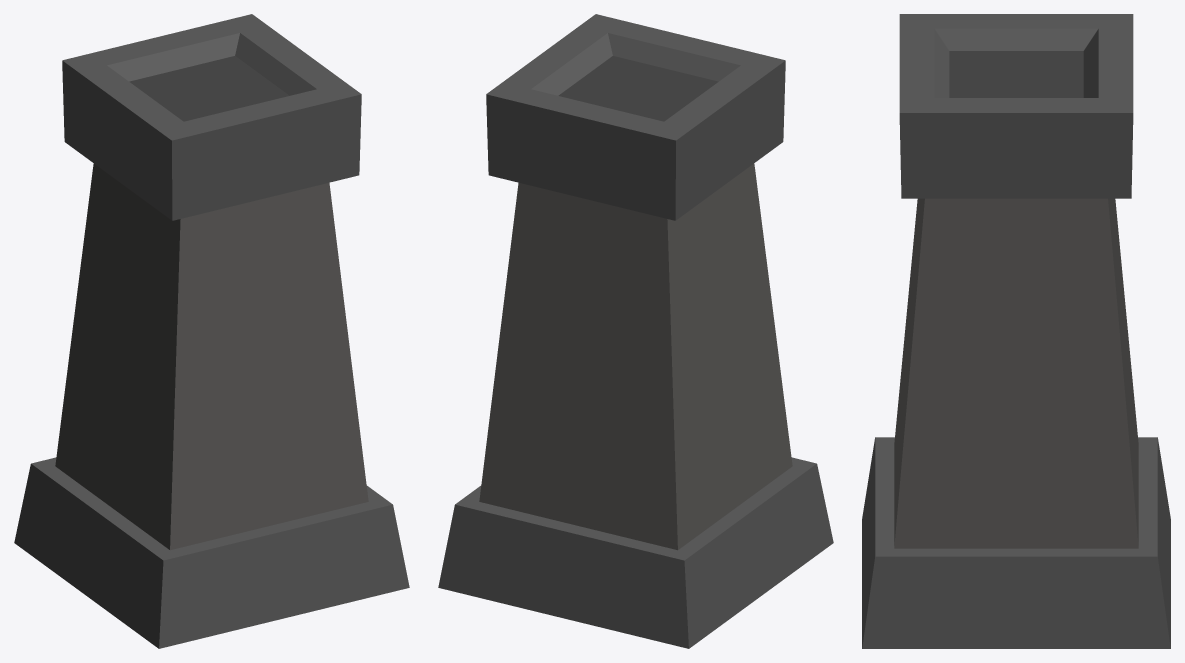
Rendered from Chimney_3_A_1.fbx.
The picture shows the model from 3 angles, left to right: view 1: azimuth 30°, elevation 25°; view 2: azimuth 150°, elevation 25°; view 3: azimuth 270°, elevation 25°; orthographic projection. The views are drawn at different scales.
Parts seen in each view (by area): view 1: Chimney_3_A_1; view 2: Chimney_3_A_1; view 3: Chimney_3_A_1.
Part boxes in pixels (x1=…): Chimney_3_A_1: x1=14, y1=14, x2=409, y2=648; Chimney_3_A_1: x1=438, y1=14, x2=833, y2=648; Chimney_3_A_1: x1=862, y1=14, x2=1170, y2=648.
Bounding box in the file's own units: 55.47 × 103 × 55.47.
